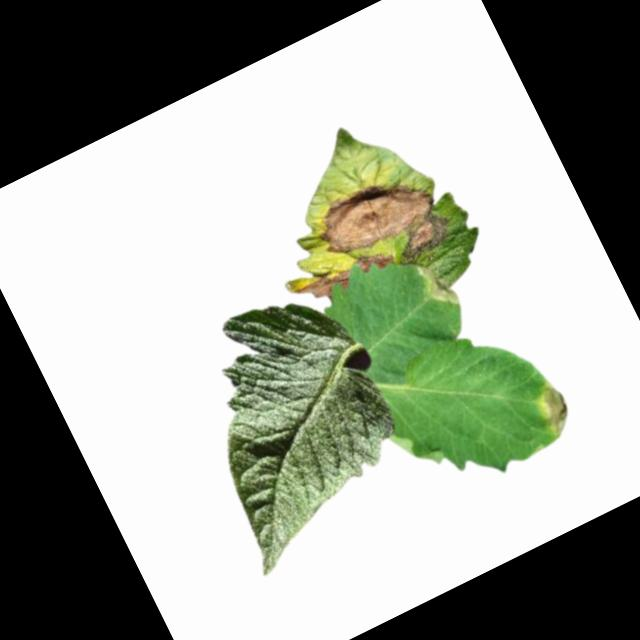Late_blight: (308, 161, 458, 295), (525, 375, 581, 443), (293, 264, 355, 310), (415, 255, 463, 314), (355, 244, 395, 278)
healthy: (154, 273, 430, 579)
